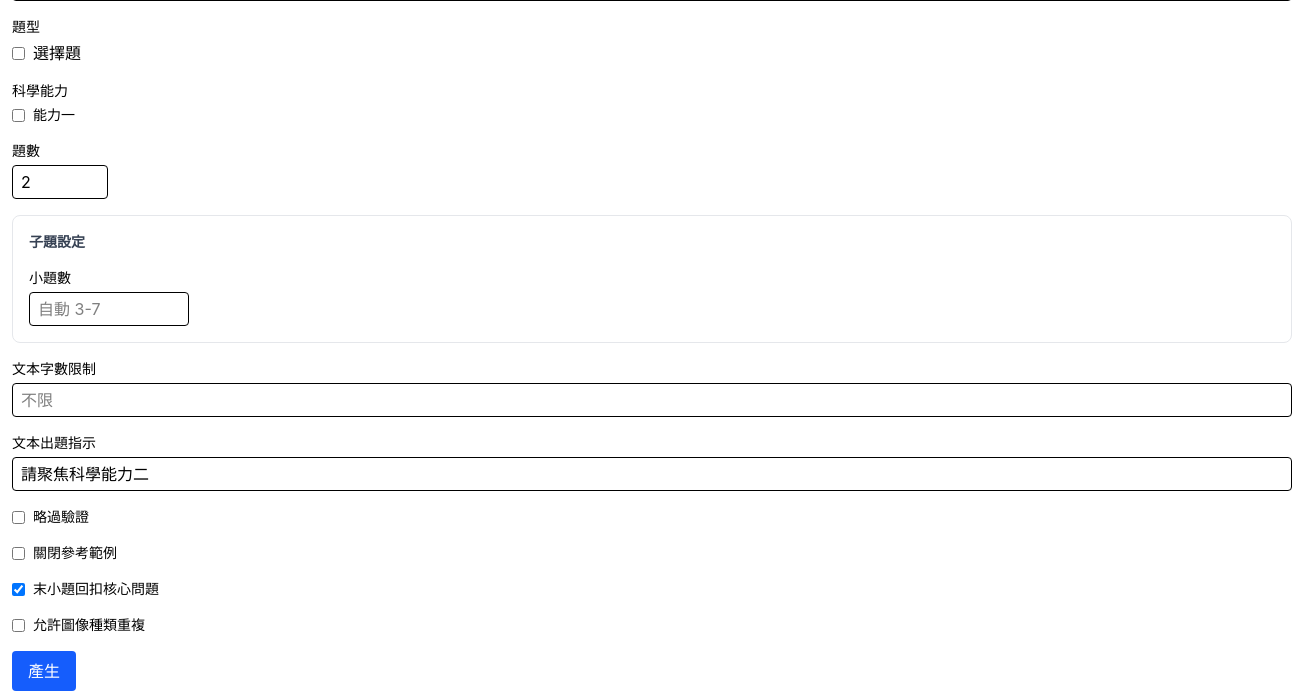
ParamForm 確認頁修改 per-題組 文本出題指示 (#637) › (natural_sciences) prefills each 題組 textarea with the request-level text_instruction
(page scrolled)
Step 1. Click the button "產生" → (44, 671), box [12,651,76,690]
(page scrolled)
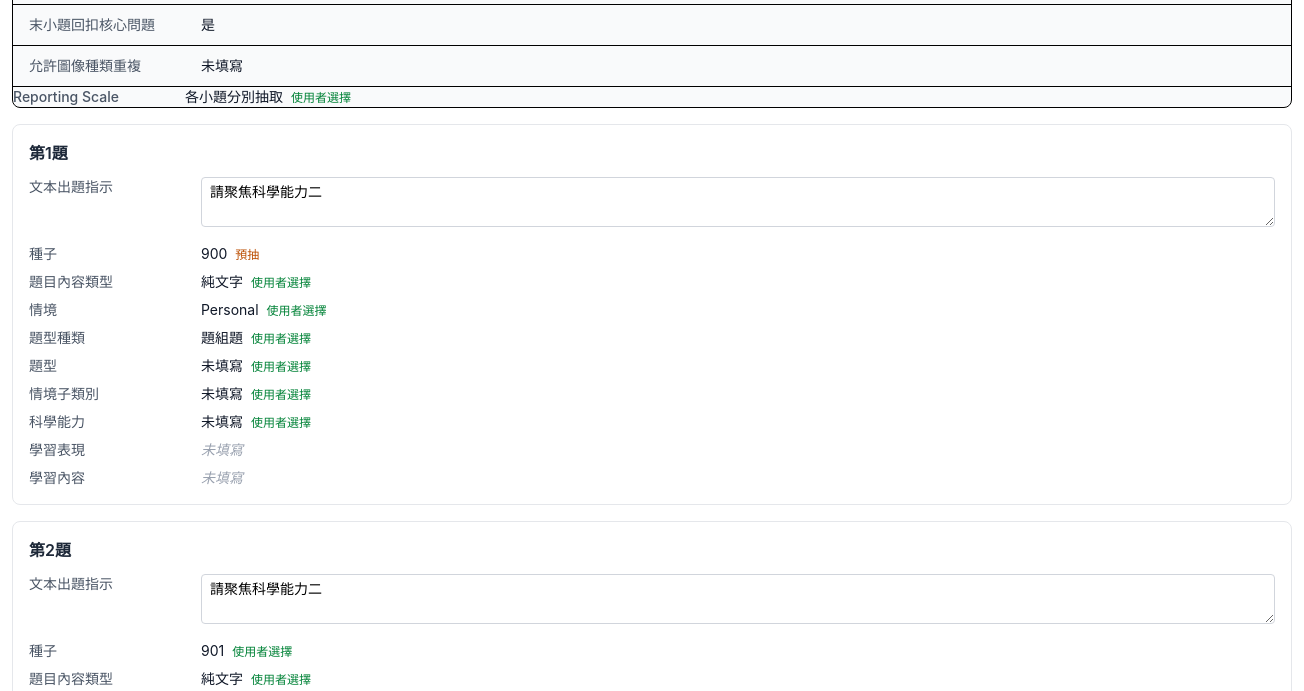
Check: the text box labelled "文本出題指示" below "第1題" holds "請聚焦科學能力二", box [201,177,1275,227]
Check: the text box labelled "文本出題指示" below "第2題" holds "請聚焦科學能力二", box [201,574,1275,624]
